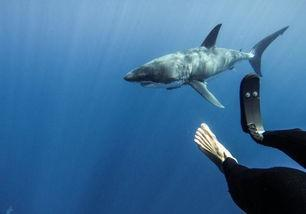fish: (121, 17, 296, 97)
